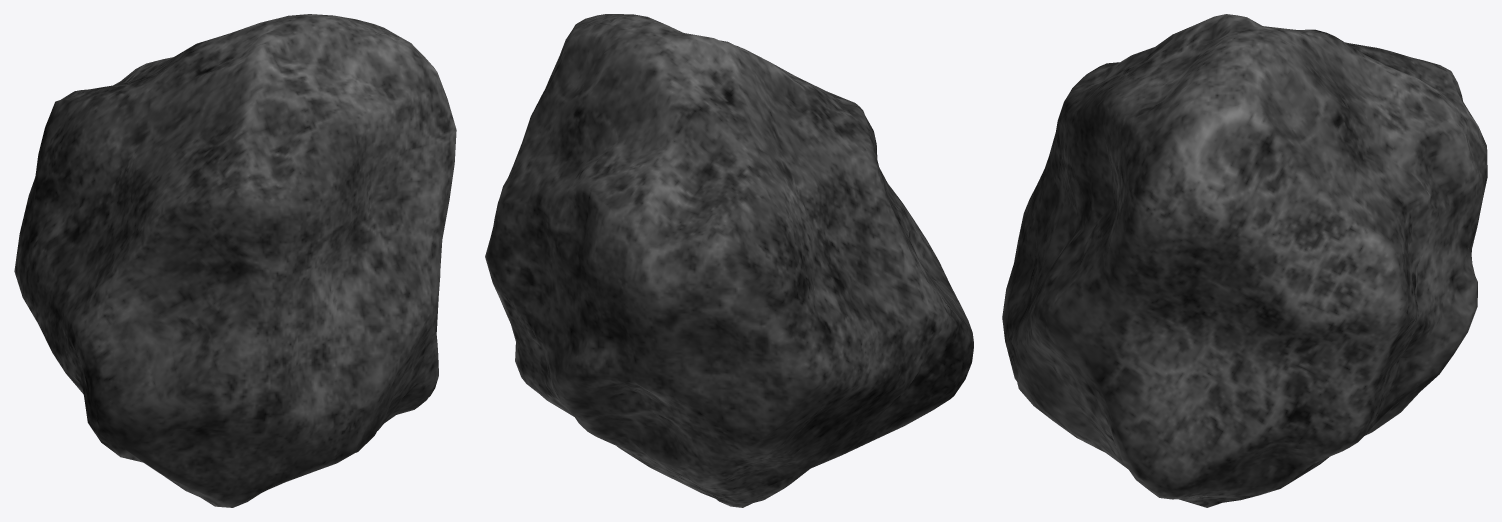
Rendered from Asteroid_8.fbx.
The picture shows the model from 3 angles, left to right: view 1: azimuth 30°, elevation 25°; view 2: azimuth 150°, elevation 25°; view 3: azimuth 270°, elevation 25°; orthographic projection. The views are drawn at different scales.
Parts seen in each view (by area): view 1: Asteroid_no_8; view 2: Asteroid_no_8; view 3: Asteroid_no_8.
Boxes of the visible parts, bbox=[...] form: Asteroid_no_8: bbox=[14, 14, 456, 507]; Asteroid_no_8: bbox=[485, 14, 973, 507]; Asteroid_no_8: bbox=[1002, 14, 1487, 507].
Size of the model in its own units: 791 by 891 by 789.
1 material, 1 textured.
